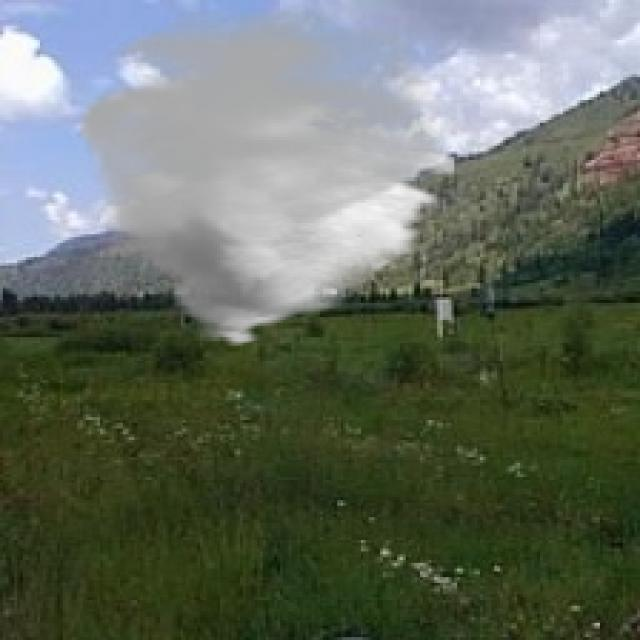Smoke: (72, 6, 454, 348)
